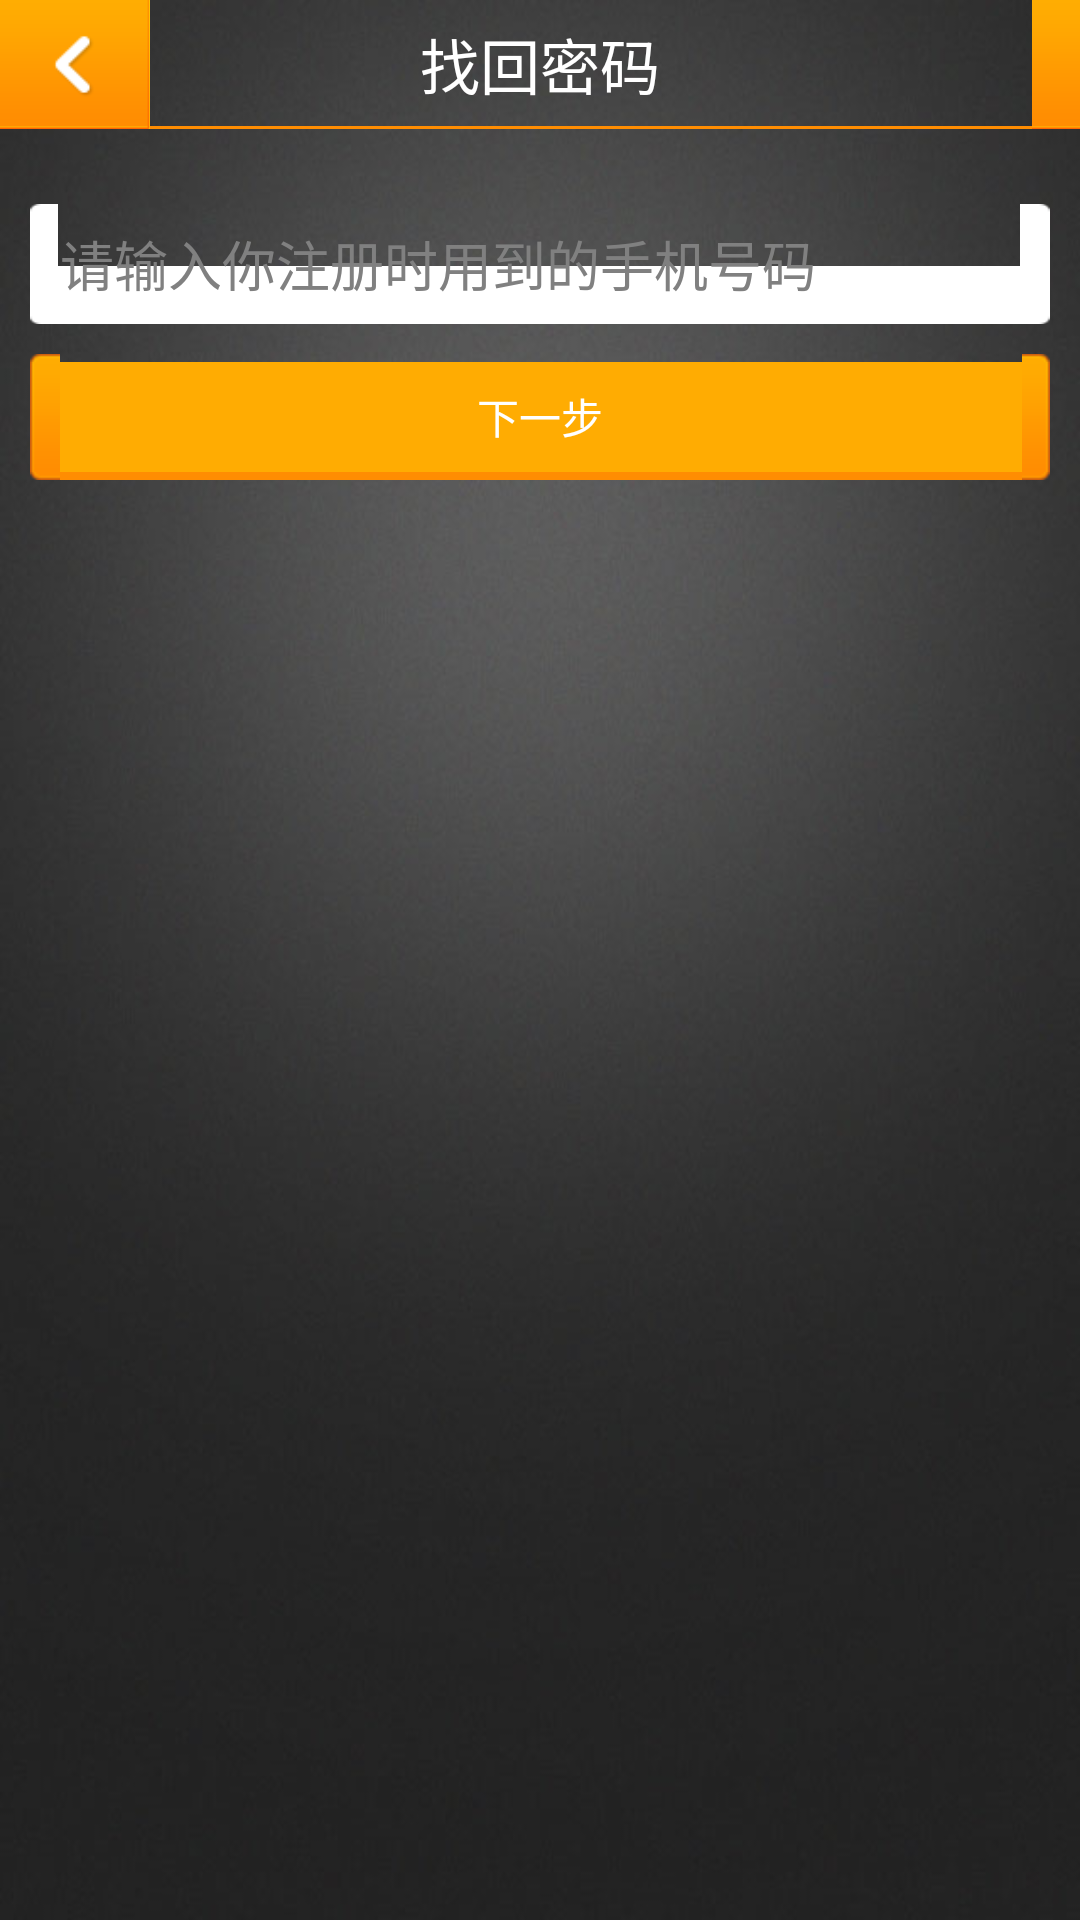

Screen size 1080×1920. Icon name, then its center in pixels as (x,y):
back: (74,61)
